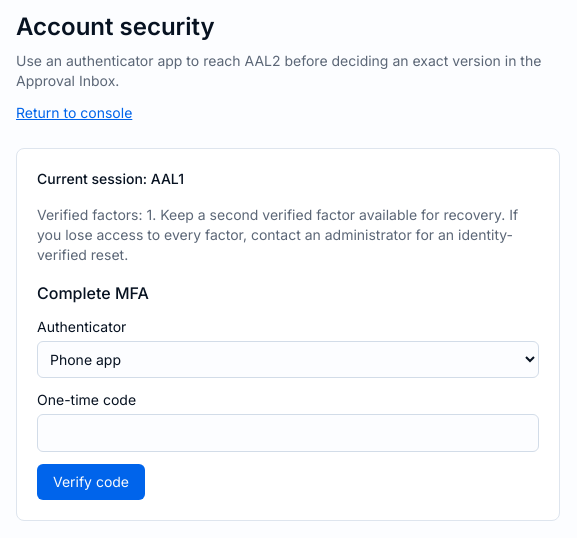
it: MFA security page › challenges an existing verified factor before allowing another enrollment
Check: the text "Current session: AAL1" is shown, box [37,170,184,187]
Check: the button "Start TOTP setup" is not shown
Type "654321" into the field labelled "One-time code" at x=288, y=433, box [37,414,539,452]
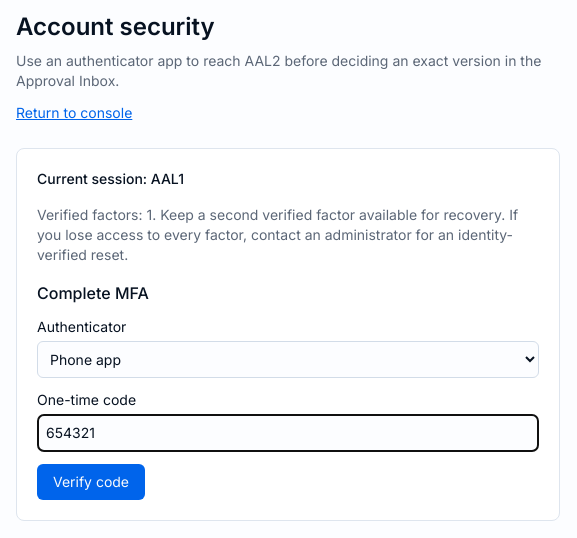
Click the button "Verify code" at x=91, y=482, box [37,464,145,500]
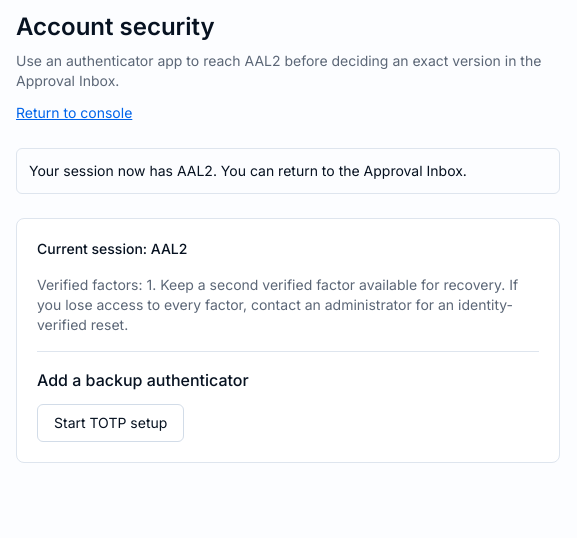
Check: the text "Current session: AAL2" is shown, box [37,240,187,257]
Check: the button "Start TOTP setup" is shown, box [37,404,184,442]
